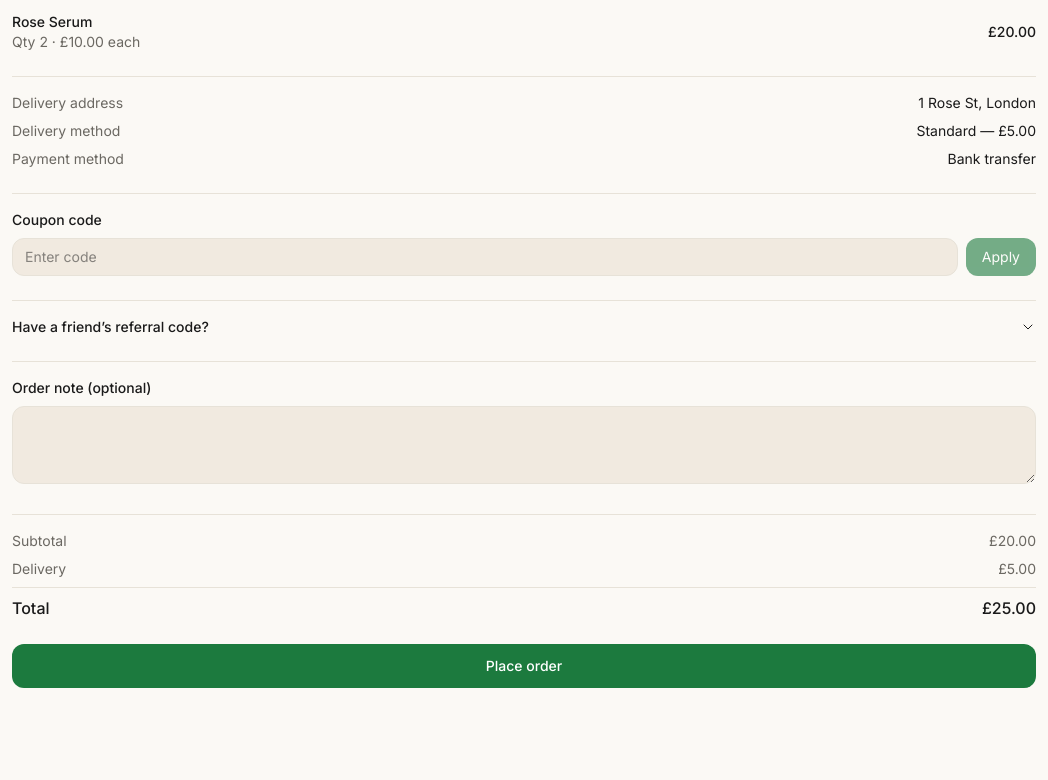
ReviewStep › shows a specific message and re-enables the button on a 409 idempotency conflict
This screenshot has width=1048, height=780.
Expected: the text "£25.00" is shown, [982,596,1036,620]
What coordinates should you click on to do the following:
click the button "Place order"
I would click on:
 (524, 666)
Its box is [12,644,1036,688].
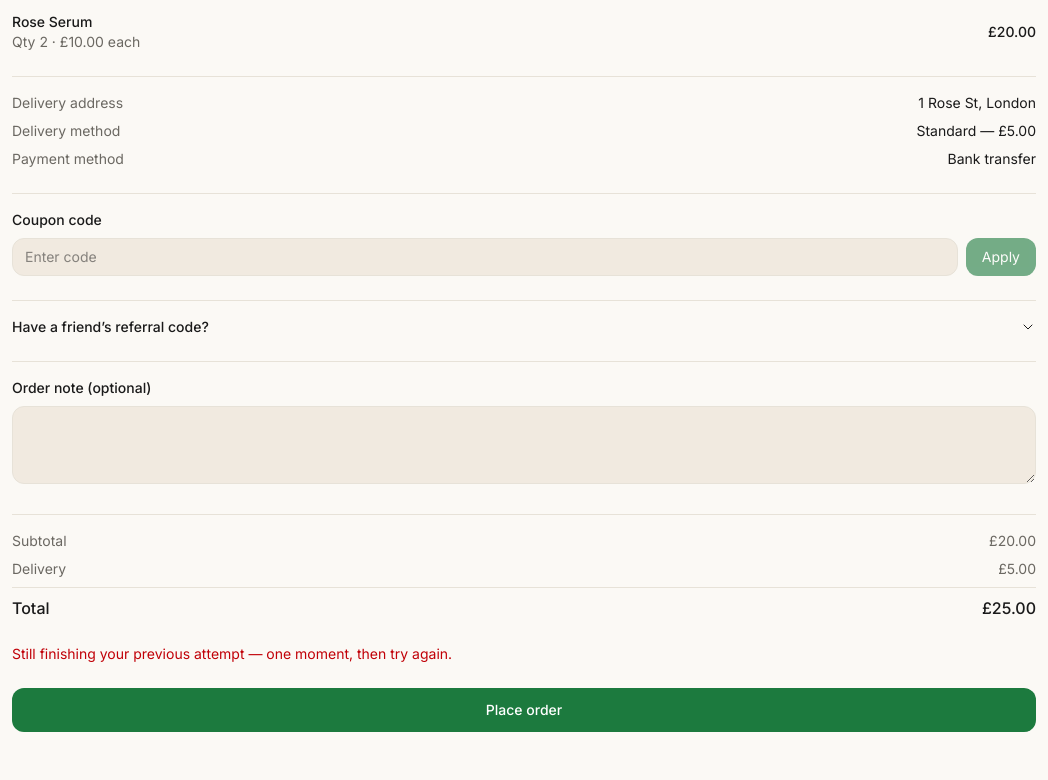
Expected: the button "Place order" is enabled, [12,688,1036,732]
Expected: the message shows "Still finishing your previous attempt", [12,645,452,662]
